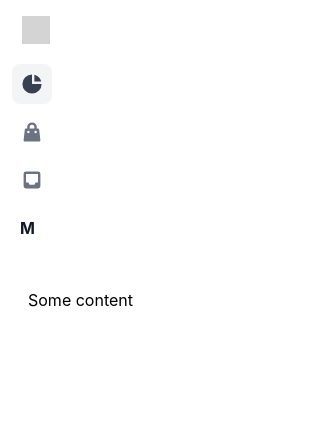
Test: Keyboard interactions › should expand/collapse when `Space` is pressed on a `Sidebar.Collapse`
The width and height of the screenshot is (320, 428).
Click the button.
click(32, 132)  # box [12,112,52,152]
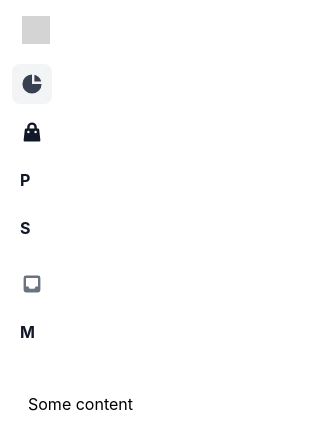
Expected: the list is shown, [20,170,30,238]
